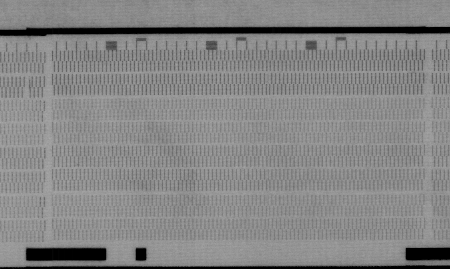Broken hole: (21, 86, 34, 100)
Oblique printing: (23, 76, 35, 89)
